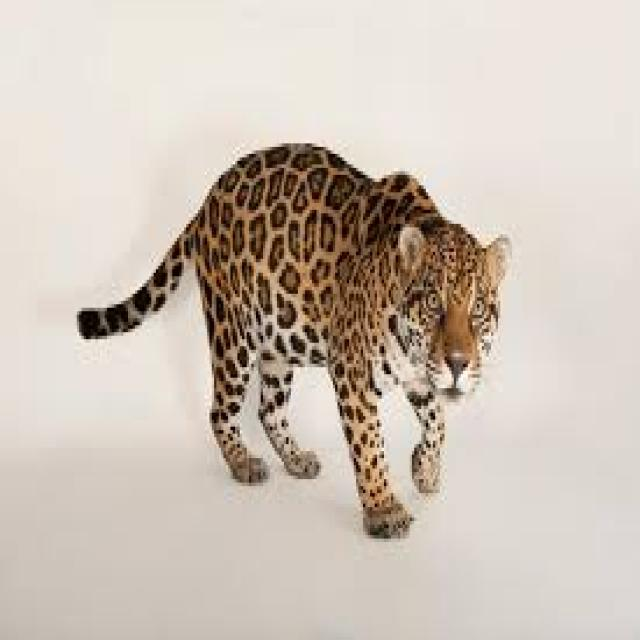Jaguar: (72, 112, 514, 552)
